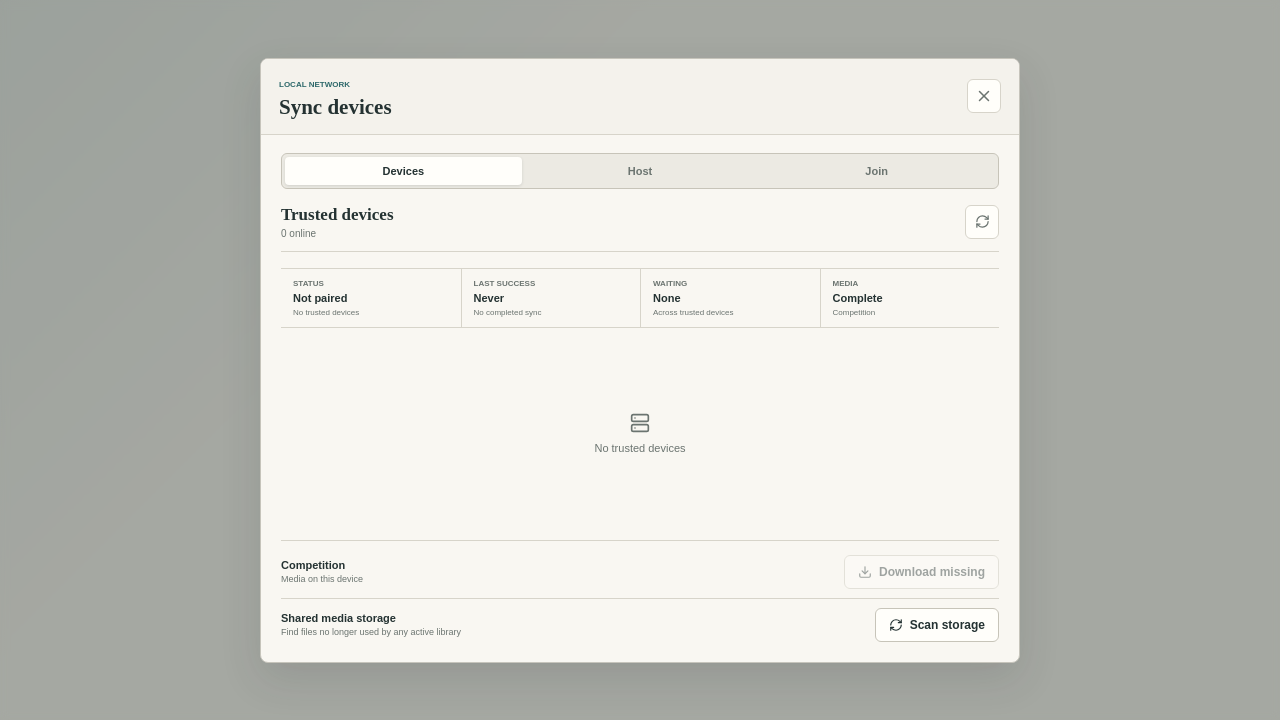
Scenario: sync dialog › previews and confirms shared media cleanup
What coordinates should you click on to do the following:
click the button "Scan storage"
I would click on:
 (937, 624)
Its box is top-left (875, 608), bottom-right (999, 642).
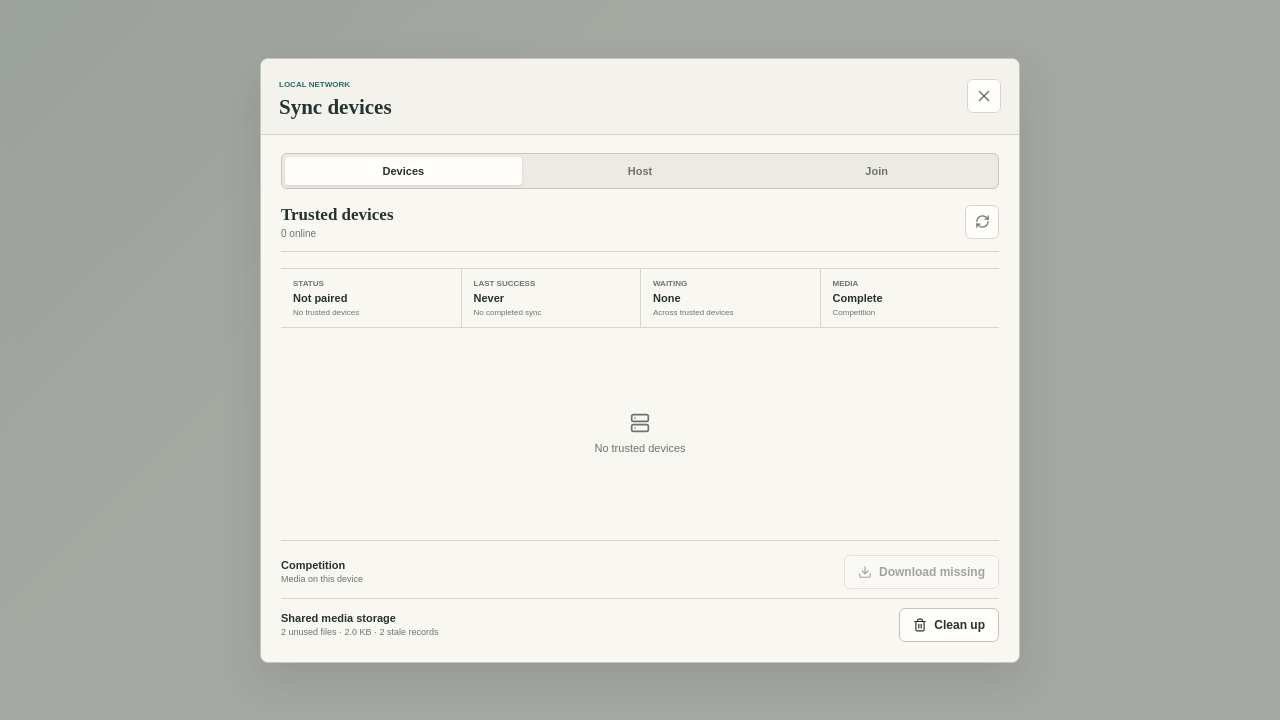
Check: the text "2 unused files · 2.0 KB · 2 stale records" is shown, box top-left (281, 627), bottom-right (439, 637)
What coordinates should you click on to do the following:
click the button "Clean up"
I would click on:
 (949, 624)
Its box is top-left (899, 608), bottom-right (999, 642).
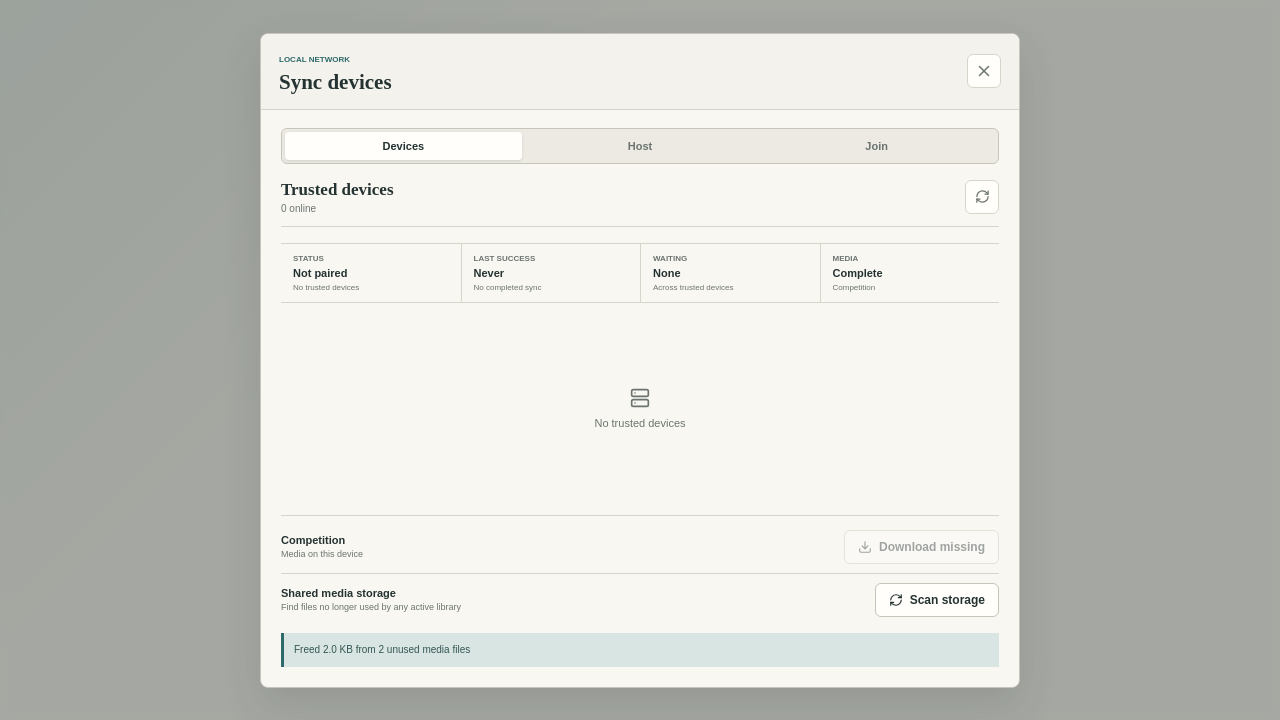
Check: the text "Freed 2.0 KB from 2 unused media files" is shown, box top-left (294, 644), bottom-right (470, 655)
